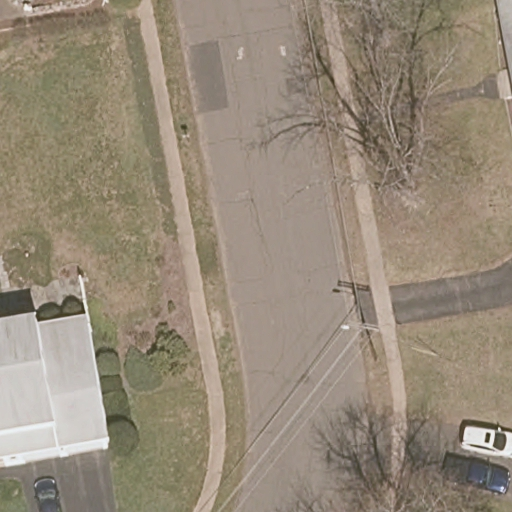DT: (339, 316, 379, 344)
